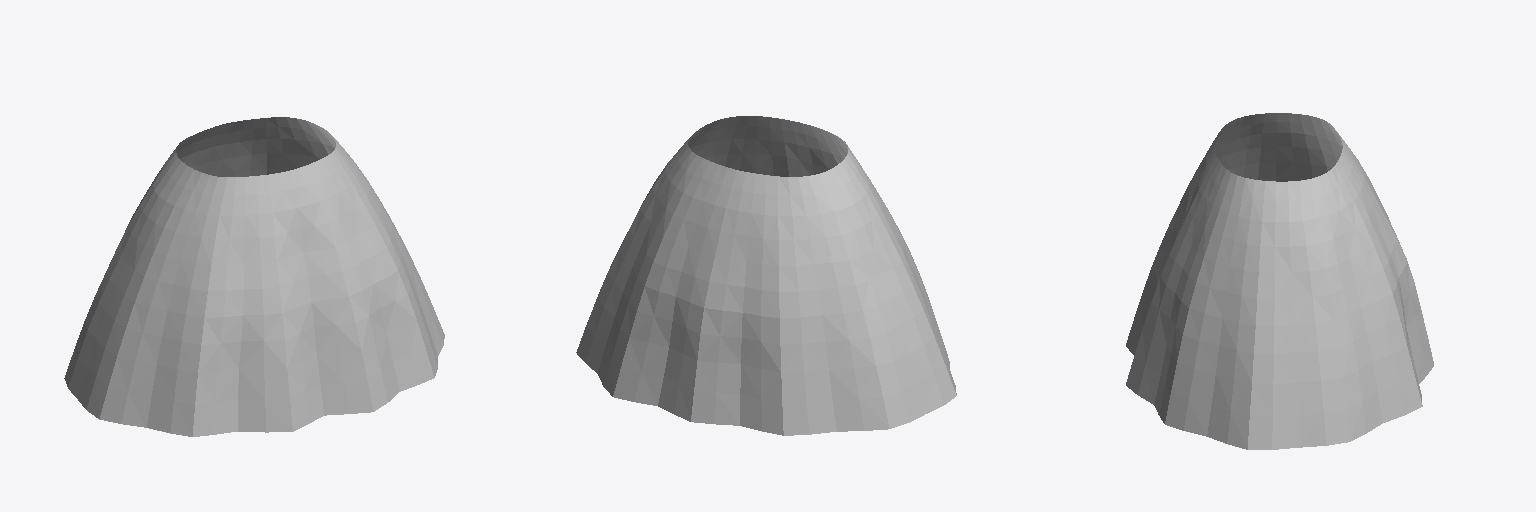
The model's file is 2_shirtshortfullwavy.obj.
3 renders of one model, left to right at view 1: azimuth 30°, elevation 25°; view 2: azimuth 150°, elevation 25°; view 3: azimuth 270°, elevation 25°, orthographic.
Parts seen in each view (by area): view 1: skirtfront, skirtbackleft, skirtback, skirtbackright; view 2: skirtback, skirtbackleft, skirtfront, skirtbackright; view 3: skirtfront, skirtbackright, skirtback, skirtbackleft.
Boxes of the visible parts, box(x1,y1,x2,y2) form: skirtfront: box(78, 128, 444, 436); skirtbackleft: box(64, 136, 190, 398); skirtback: box(177, 118, 266, 176); skirtbackright: box(266, 117, 335, 174); skirtback: box(613, 158, 783, 435); skirtbackleft: box(778, 168, 925, 435); skirtfront: box(688, 116, 956, 413); skirtbackright: box(576, 138, 702, 396); skirtfront: box(1126, 113, 1298, 449); skirtbackright: box(1288, 166, 1422, 447); skirtback: box(1335, 132, 1433, 405); skirtbackleft: box(1288, 113, 1342, 180).
Size of the model in its own units: 22.8 by 13.8 by 17.63.